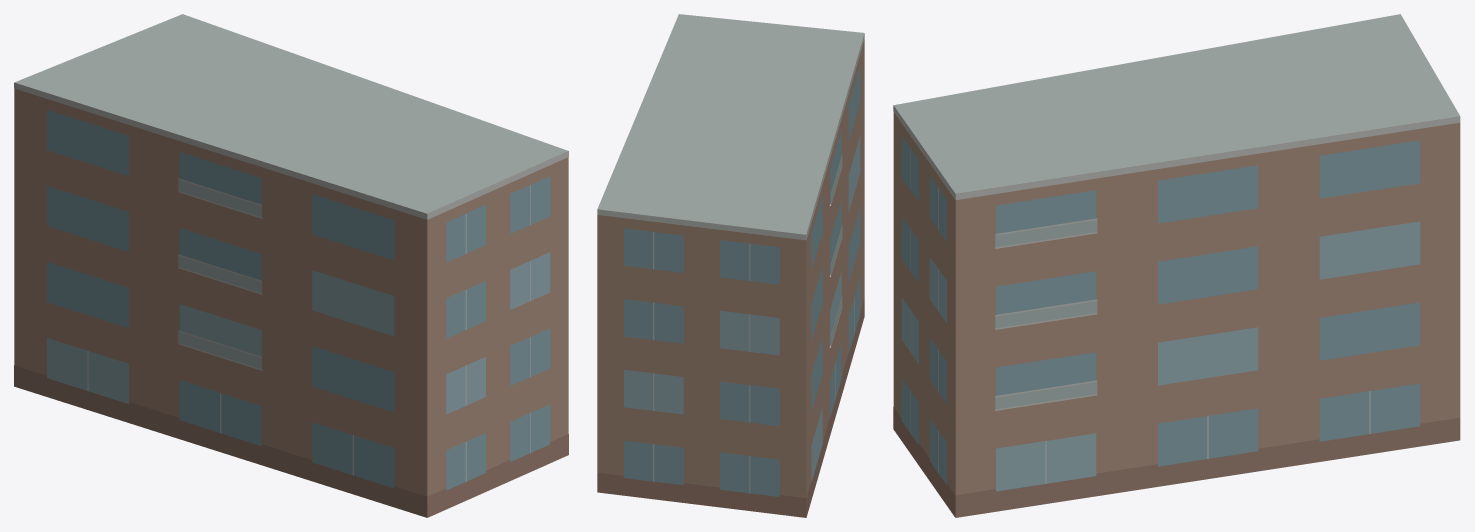
The model's file is survey-upis-32951549.glb.
3 views of the same model, side by side, from view 1: azimuth 30°, elevation 25°; view 2: azimuth 150°, elevation 25°; view 3: azimuth 270°, elevation 25° (orthographic). The views are drawn at different scales.
Visible parts, largest first — view 1: survey-upis-32951549.tmp; view 2: survey-upis-32951549.tmp; view 3: survey-upis-32951549.tmp.
Part boxes in pixels (x1,y1,x2,y2): survey-upis-32951549.tmp: [14, 14, 568, 517]; survey-upis-32951549.tmp: [597, 14, 864, 517]; survey-upis-32951549.tmp: [893, 14, 1460, 517].
Size of the model in its own units: 14.77 by 12.4 by 19.67.
